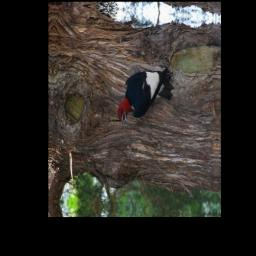Woodpecker: (115, 56, 175, 134)
